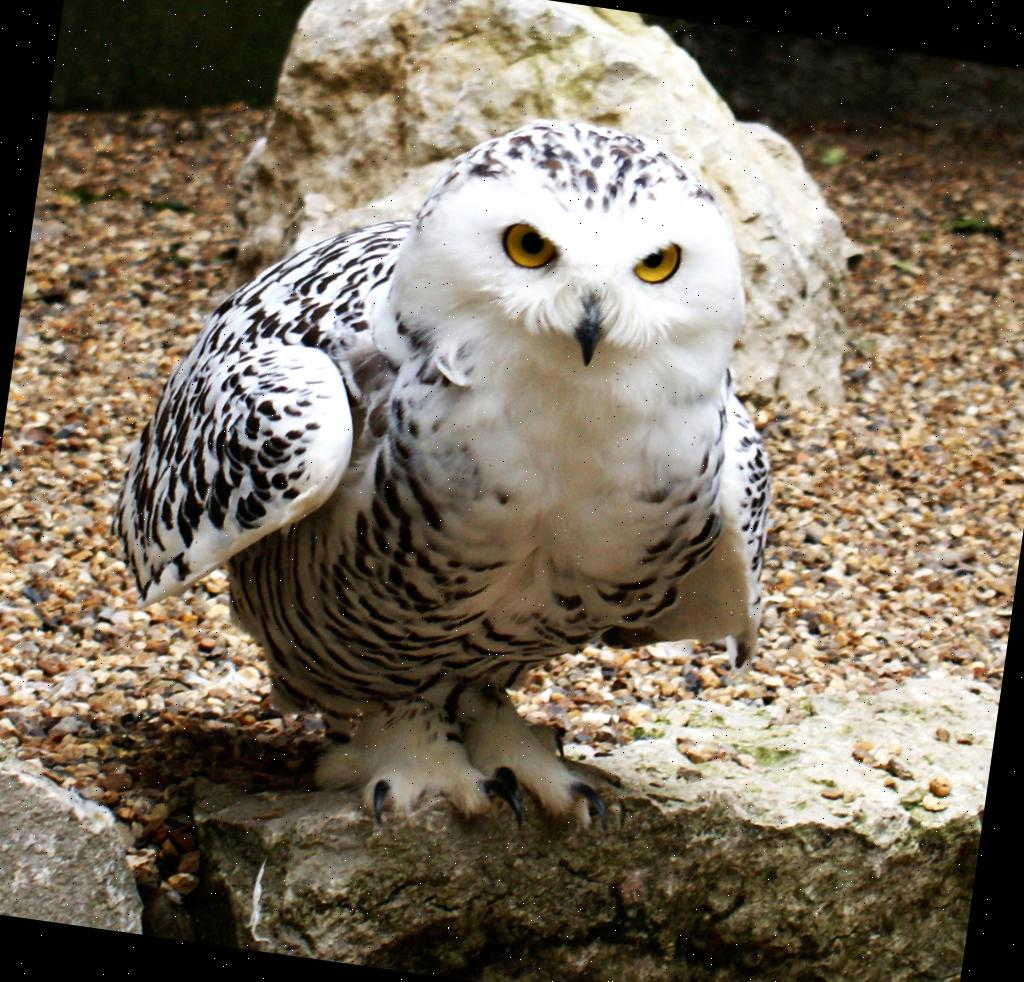Owl: (80, 64, 828, 873)
